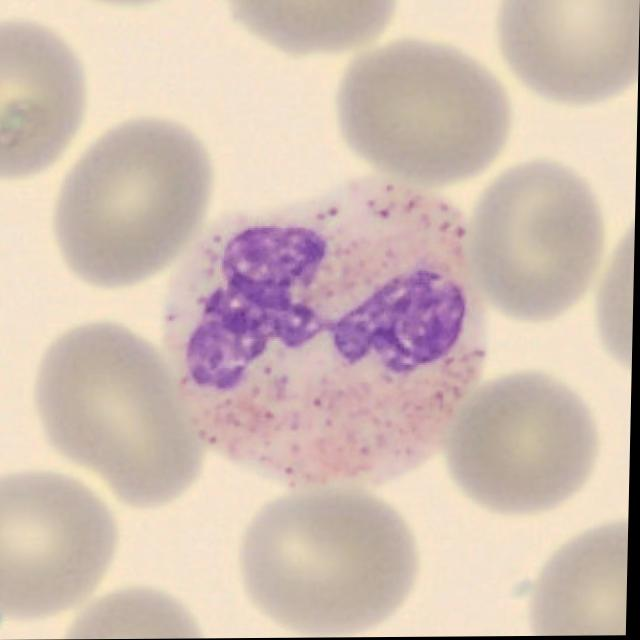Neutrofilo segmentado: (161, 176, 491, 487)
